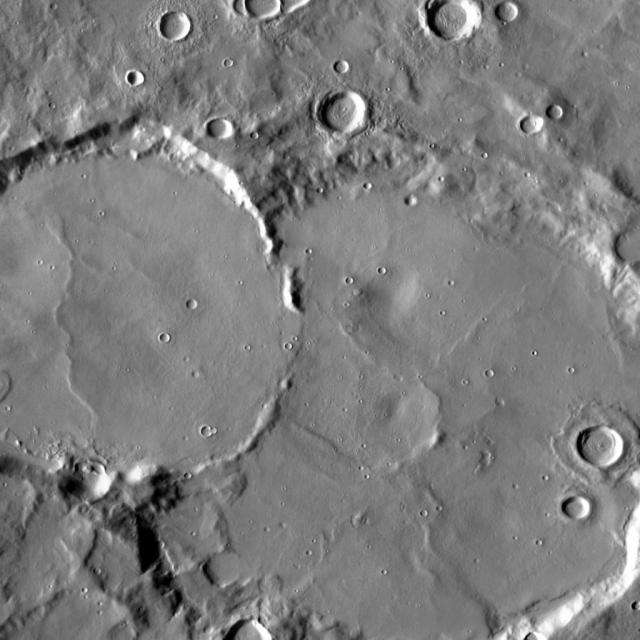crater: (84, 158, 640, 640), (0, 118, 307, 483), (66, 456, 116, 501), (323, 86, 373, 130), (582, 421, 630, 463), (433, 0, 486, 38), (210, 548, 252, 584), (228, 617, 278, 640), (157, 10, 190, 38), (566, 491, 596, 517), (206, 114, 233, 139), (250, 0, 286, 18), (519, 113, 544, 134), (500, 0, 524, 19), (529, 627, 554, 640), (239, 0, 263, 13), (339, 56, 356, 72), (548, 104, 565, 120), (126, 69, 143, 84), (404, 195, 419, 208), (202, 424, 214, 434), (186, 297, 196, 306), (256, 129, 266, 137), (363, 182, 372, 190), (486, 370, 495, 378), (160, 333, 170, 340), (231, 57, 239, 64), (344, 278, 352, 285), (379, 267, 387, 274), (208, 417, 216, 423), (419, 511, 426, 516)
